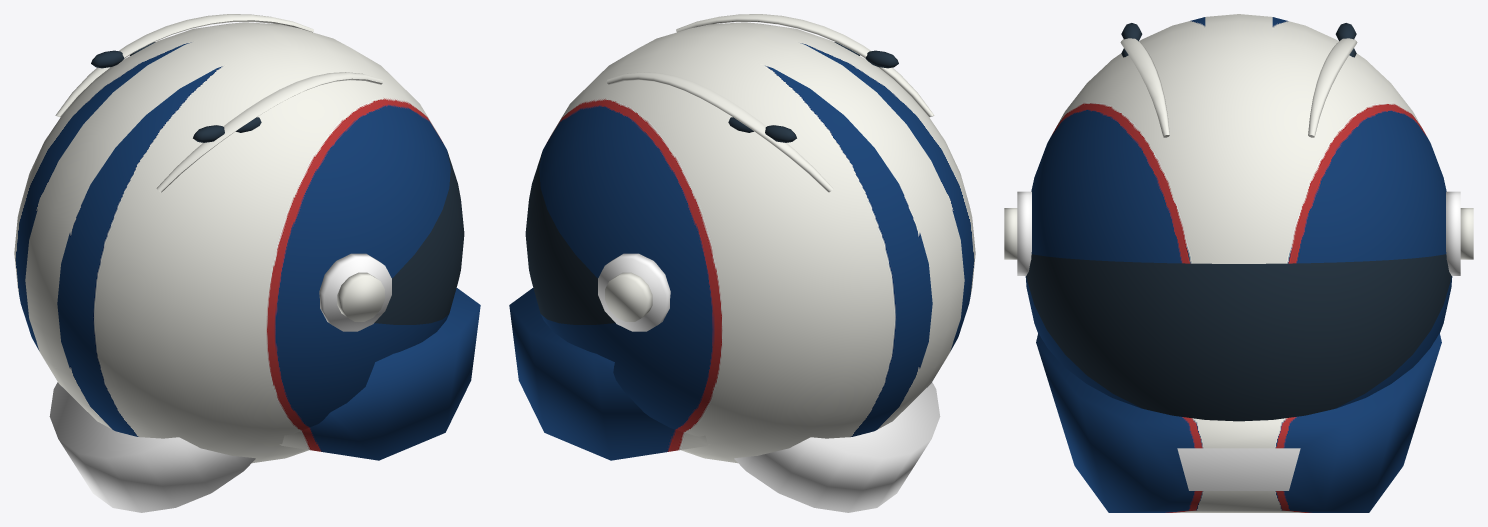
Rendered from Helmet_10_R_外舷・群青.glb.
The picture shows the model from 3 angles, left to right: view 1: azimuth 30°, elevation 25°; view 2: azimuth 150°, elevation 25°; view 3: azimuth 270°, elevation 25°; orthographic projection. The views are drawn at different scales.
Visible parts, largest first — view 1: Helmet_10_R, Visor; view 2: Helmet_10_R, Visor; view 3: Helmet_10_R, Visor.
Part boxes in pixels (x1,y1,x2,y2): Helmet_10_R: (14, 14, 480, 512); Visor: (91, 42, 464, 324); Helmet_10_R: (509, 14, 975, 512); Visor: (525, 42, 898, 324); Helmet_10_R: (1004, 14, 1473, 512); Visor: (1026, 23, 1451, 421).
Size of the model in its own units: 0.301 by 0.305 by 0.289.
3 materials, 3 textured.
